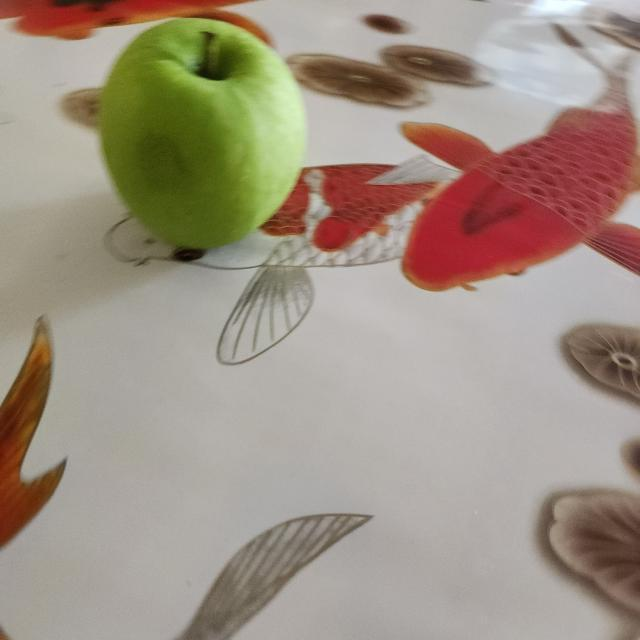apple: (90, 9, 316, 268)
